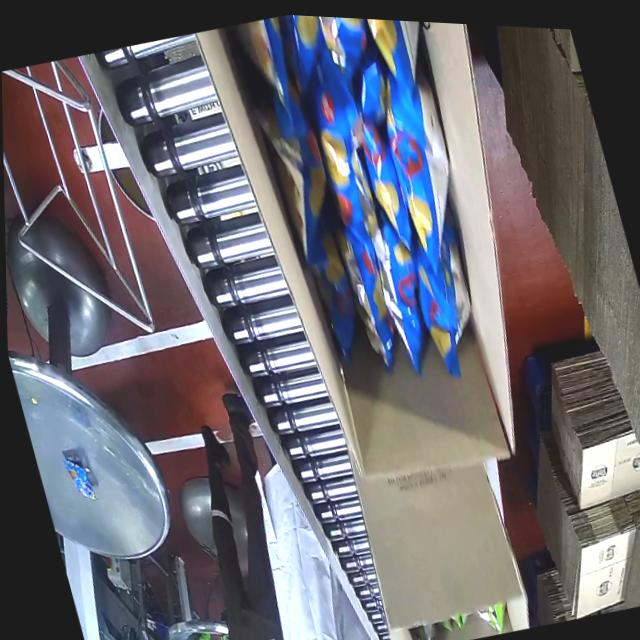PAPRIKA: (219, 11, 508, 409)
